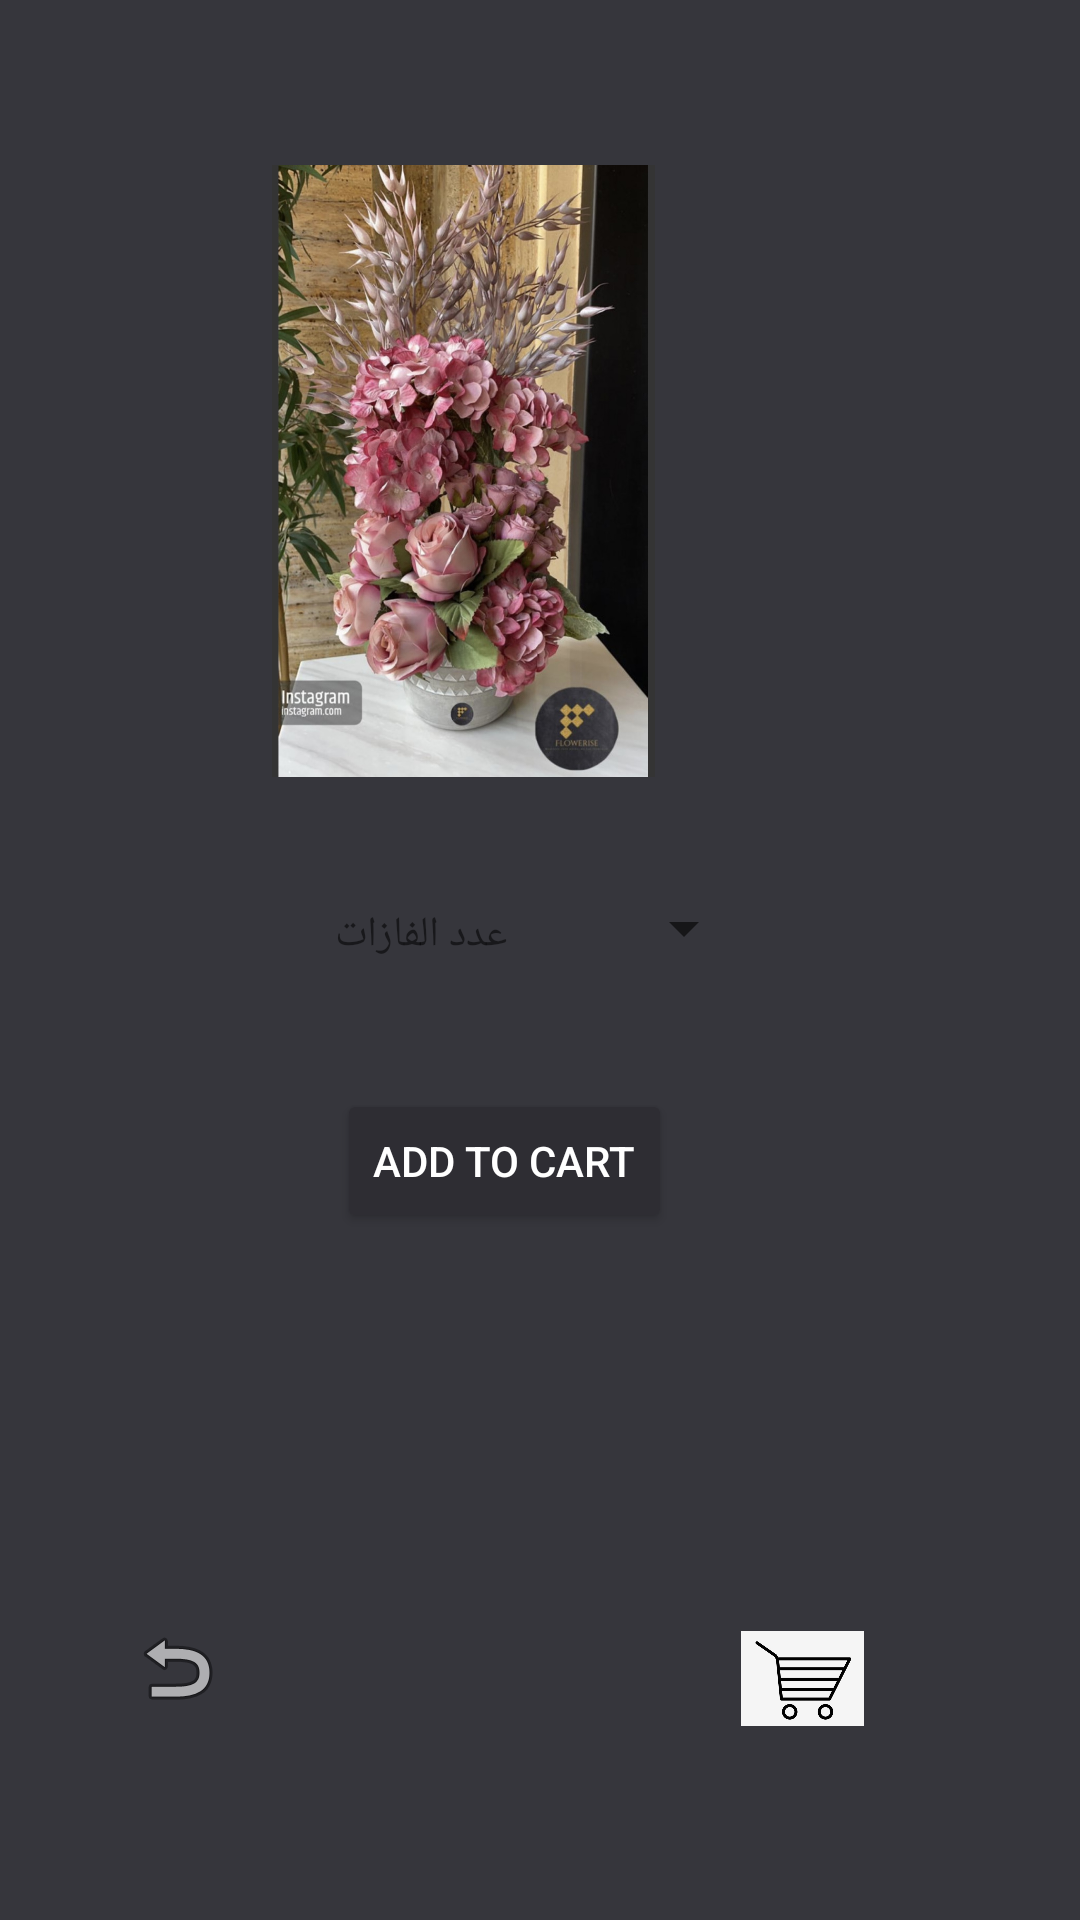

Where icons sit on this 1080px x 1920px app screen, as (x1, y1, x2, y2):
revert: (145, 1639, 211, 1698)
